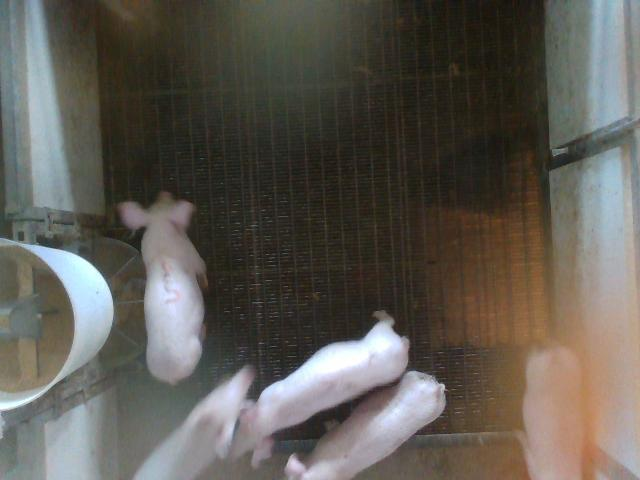pig-3: (118, 191, 208, 383)
